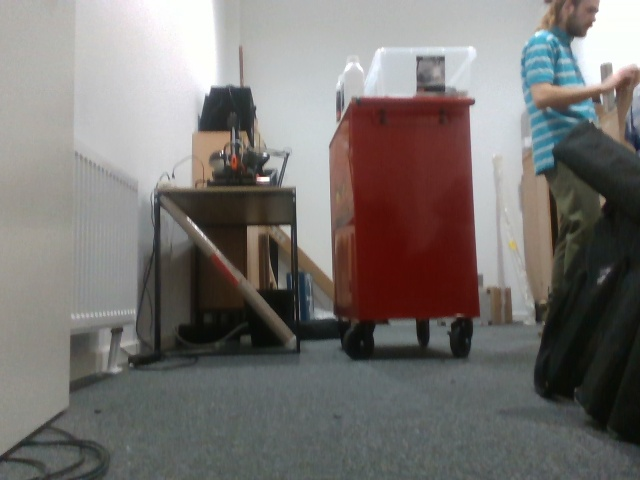alfa: (156, 303, 186, 333)
